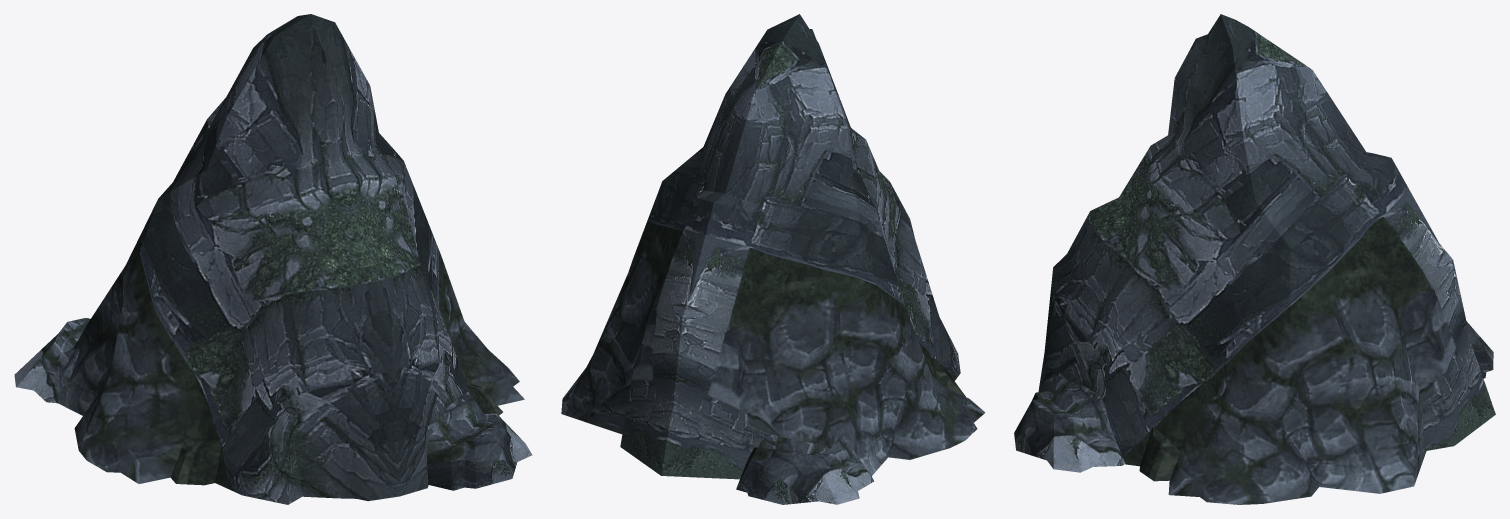
Rendered from cs_lobbynew02_shitou001_04.FBX.
The picture shows the model from 3 angles, left to right: view 1: azimuth 30°, elevation 25°; view 2: azimuth 150°, elevation 25°; view 3: azimuth 270°, elevation 25°; orthographic projection. The views are drawn at different scales.
Visible parts, largest first — view 1: cs_lobbynew02_shitou001_04; view 2: cs_lobbynew02_shitou001_04; view 3: cs_lobbynew02_shitou001_04.
Part boxes in pixels (left/top/right/bottom): cs_lobbynew02_shitou001_04: left=14, top=14, right=532, bottom=504; cs_lobbynew02_shitou001_04: left=561, top=14, right=985, bottom=504; cs_lobbynew02_shitou001_04: left=1014, top=14, right=1495, bottom=504.
Size of the model in its own units: 3405 by 3269 by 3606.
